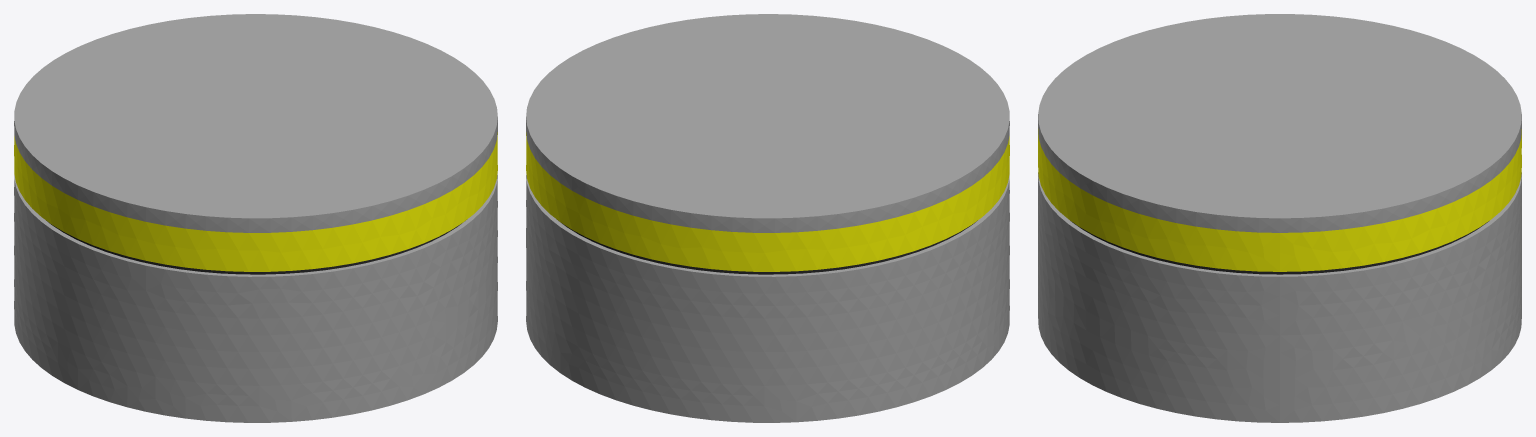
3 renders of one model, left to right at view 1: azimuth 30°, elevation 25°; view 2: azimuth 150°, elevation 25°; view 3: azimuth 270°, elevation 25°, orthographic.
Visible parts, largest first — view 1: node3, node0, node1, node2, node4; view 2: node3, node0, node1, node2, node4; view 3: node3, node0, node1, node2, node4.
Boxes of the visible parts, x1,y1,x2,y2 form: node3: (14, 14, 497, 232); node0: (14, 234, 497, 422); node1: (14, 174, 497, 335); node2: (14, 132, 497, 271); node4: (46, 220, 461, 274); node3: (526, 14, 1009, 232); node0: (526, 234, 1009, 422); node1: (526, 174, 1009, 335); node2: (526, 132, 1009, 271); node4: (562, 220, 977, 274); node3: (1038, 14, 1521, 232); node0: (1038, 231, 1521, 422); node1: (1038, 172, 1521, 335); node2: (1038, 129, 1521, 271); node4: (1071, 221, 1488, 274).
Size of the model in its own units: 0.045 by 0.045 by 0.021.
